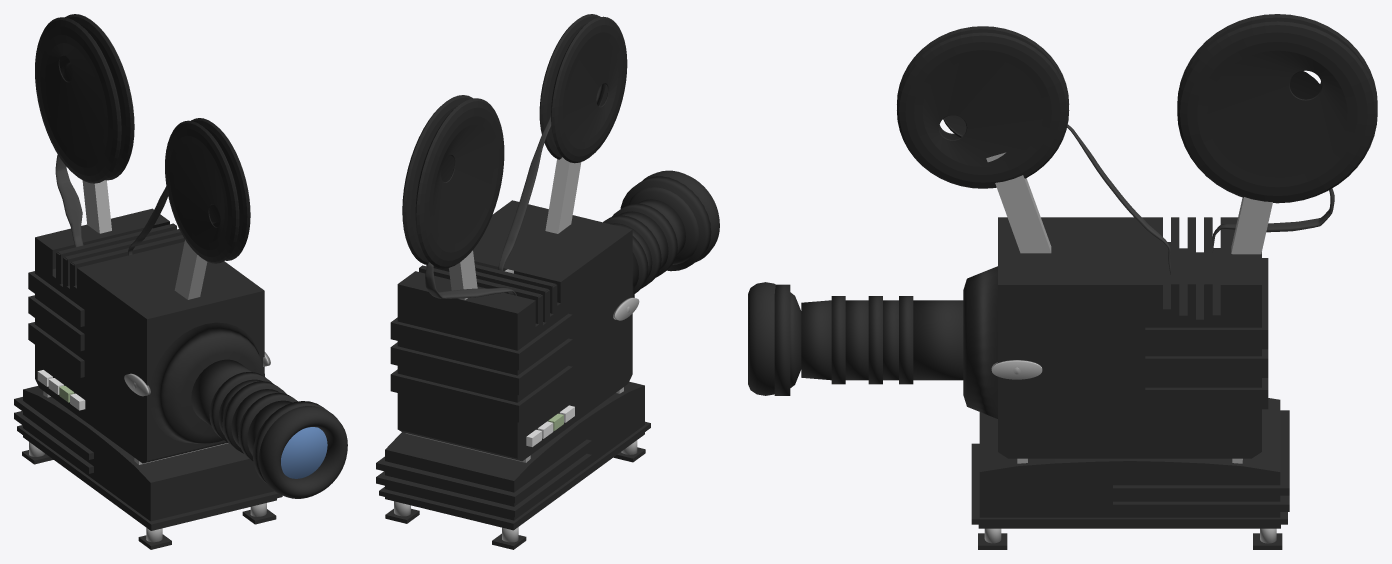
The model's file is projector.gltf.
3 views of the same model, side by side, from view 1: azimuth 30°, elevation 25°; view 2: azimuth 150°, elevation 25°; view 3: azimuth 270°, elevation 25° (orthographic). The views are drawn at different scales.
Visible parts, largest first — view 1: Up_12, Bottom_2, tape dispencer_9, tape dispencer 2_10, Cylinder.001_14, Cylinder.005_15, Cylinder.007_17, tape stand 2_8, tape stand_7, Tape_11, plates_4, legs_3 (+2 smaller); view 2: Up_12, Bottom_2, tape dispencer_9, tape dispencer 2_10, Cylinder.005_15, Cylinder.001_14, tape stand 2_8, Cylinder.006_16, Cube_13, Tape_11, tape stand_7, plates_4 (+2 smaller); view 3: Up_12, tape dispencer_9, Bottom_2, tape dispencer 2_10, Cylinder.001_14, Cylinder.005_15, tape stand 2_8, tape stand_7, Cylinder.006_16, Cube_13, Tape_11, Cylinder.009_19.
Boxes of the visible parts, x1,y1,x2,y2 form: Up_12: [28, 208, 264, 463]; Bottom_2: [14, 386, 282, 530]; tape dispencer_9: [35, 14, 134, 183]; tape dispencer 2_10: [165, 118, 250, 263]; Cylinder.001_14: [191, 359, 347, 498]; Cylinder.005_15: [209, 372, 327, 484]; Cylinder.007_17: [281, 427, 327, 478]; tape stand 2_8: [174, 239, 207, 299]; tape stand_7: [82, 180, 111, 233]; Tape_11: [55, 154, 83, 247]; plates_4: [22, 450, 276, 549]; legs_3: [29, 442, 266, 542]; Up_12: [390, 200, 634, 461]; Bottom_2: [376, 381, 650, 530]; tape dispencer_9: [402, 95, 504, 268]; tape dispencer 2_10: [539, 14, 627, 163]; Cylinder.005_15: [603, 176, 711, 293]; Cylinder.001_14: [610, 170, 719, 288]; tape stand 2_8: [545, 157, 581, 233]; Cylinder.006_16: [628, 187, 698, 264]; Cube_13: [498, 115, 551, 270]; Tape_11: [425, 262, 516, 298]; tape stand_7: [449, 250, 477, 300]; plates_4: [385, 447, 645, 549]; Up_12: [963, 217, 1268, 458]; tape dispencer_9: [1177, 14, 1377, 203]; Bottom_2: [971, 398, 1289, 528]; tape dispencer 2_10: [897, 26, 1069, 188]; Cylinder.001_14: [748, 282, 963, 395]; Cylinder.005_15: [774, 284, 913, 395]; tape stand 2_8: [986, 152, 1051, 253]; tape stand_7: [1231, 197, 1272, 254]; Cylinder.006_16: [790, 292, 801, 387]; Cube_13: [1067, 124, 1170, 274]; Tape_11: [1212, 188, 1334, 252]; Cylinder.009_19: [991, 360, 1042, 379].
Size of the model in its own units: 0.5107 by 1.51 by 1.74.
